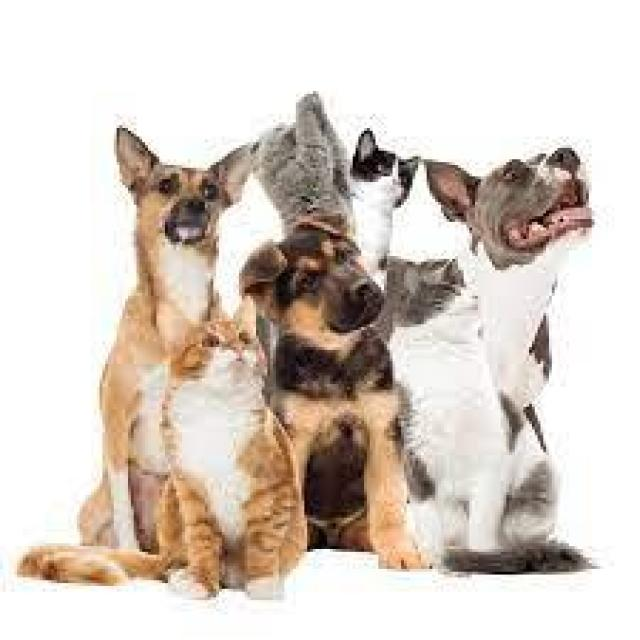Cat: (241, 90, 351, 198), (389, 248, 490, 345), (342, 116, 422, 215)
Dog: (233, 210, 401, 360), (109, 110, 260, 272), (416, 142, 607, 268)
